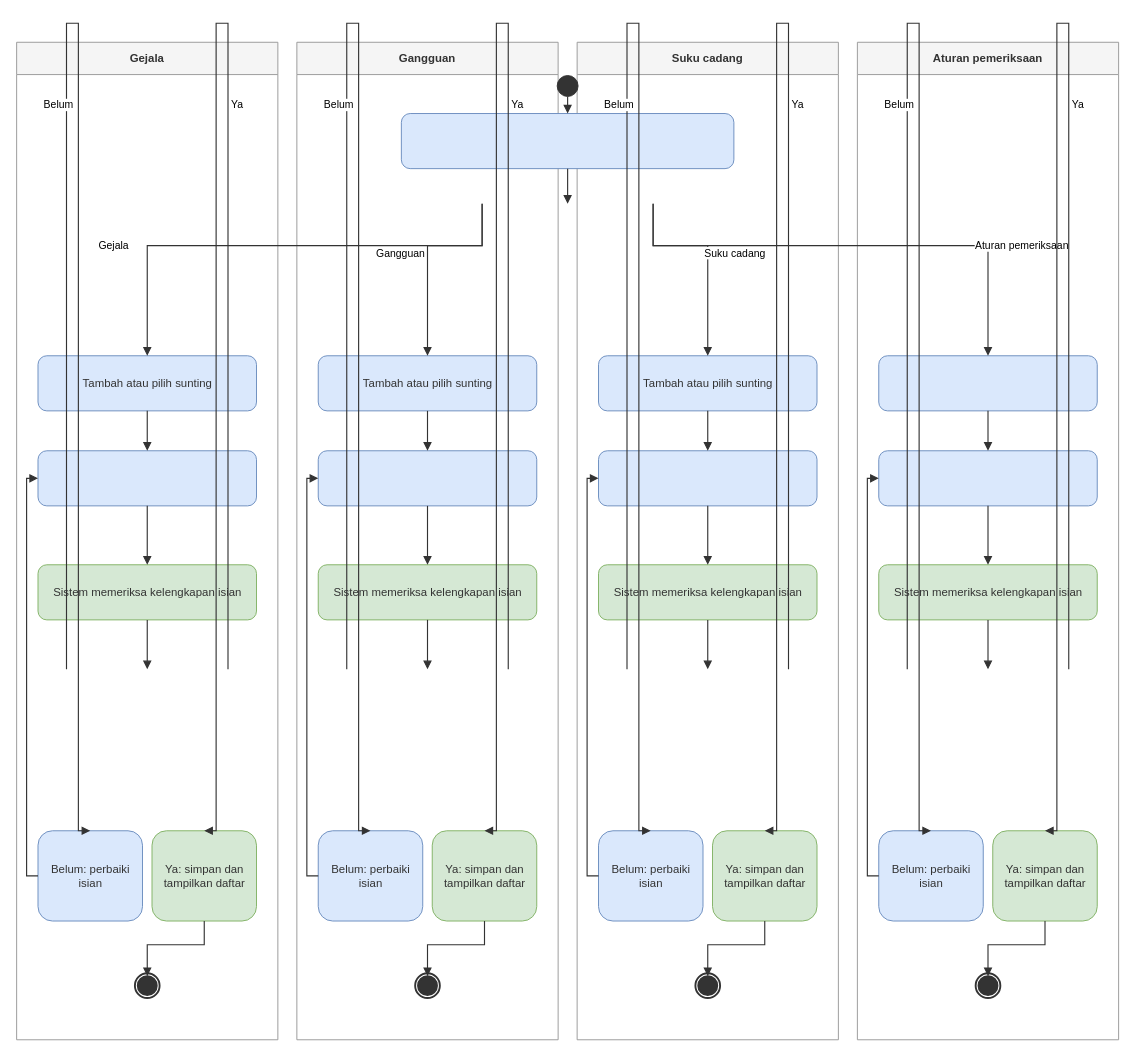
Some shapes in this 1135 by 1057 pixel diagram are drawn without their labels. Here are the shapes that lost their labels. From the top down, the centre of each, then its label:
At (567,141): "Buka daftar data pemeriksaan".
At (987,383): "Pilih gangguan, lalu tambah atau sunting".
At (146,478): "Isi kode, nama, kategori, dan pertanyaan".
At (427,478): "Isi nama, saran, jenis servis, biaya, dan suku cadang yang dianjurkan".
At (707,478): "Isi kode, nama, satuan, harga, dan stok".
At (987,478): "Pilih dan urutkan gejala yang harus diperiksa".
